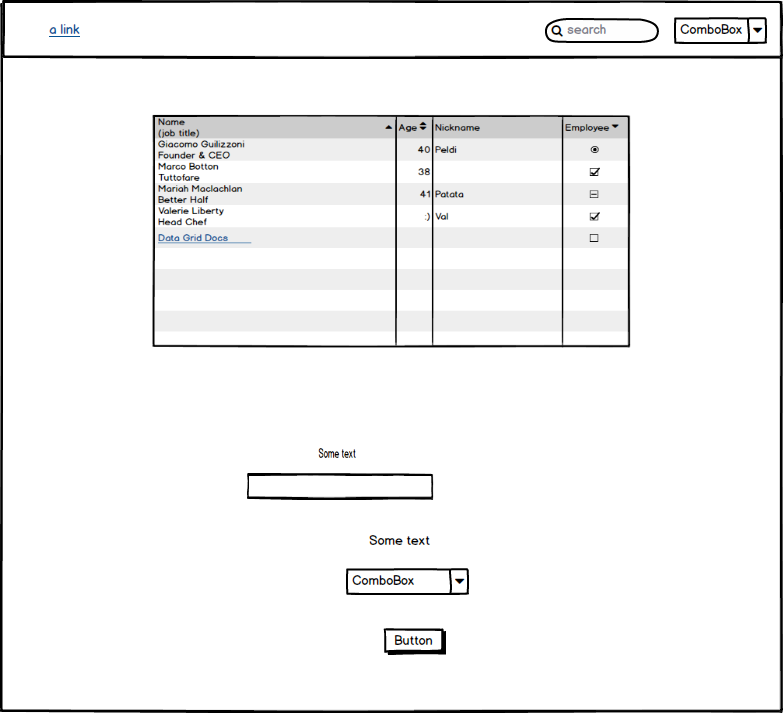button: (378, 623, 453, 659)
input: (242, 469, 441, 505)
label: (304, 443, 366, 463), (366, 532, 436, 548)
navlink: (35, 17, 86, 42)
search: (541, 12, 662, 51)
select_box: (345, 561, 476, 598), (671, 13, 770, 49)
table: (146, 108, 637, 348)
